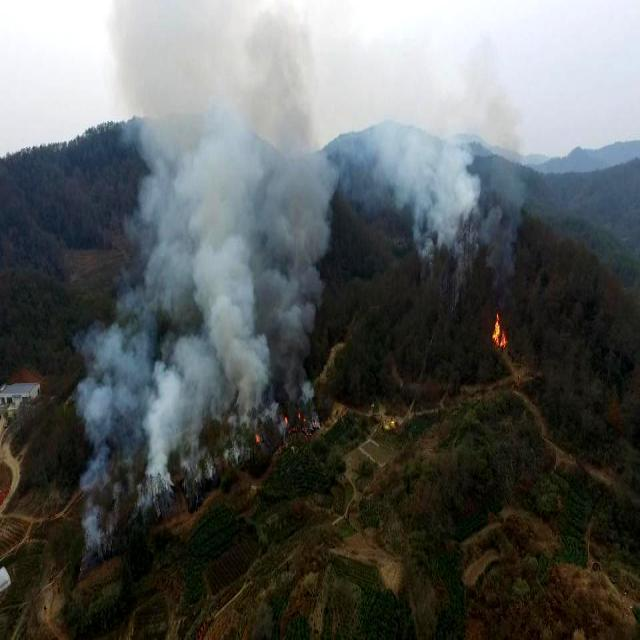Smoke: (91, 12, 388, 552), (376, 92, 484, 257)
